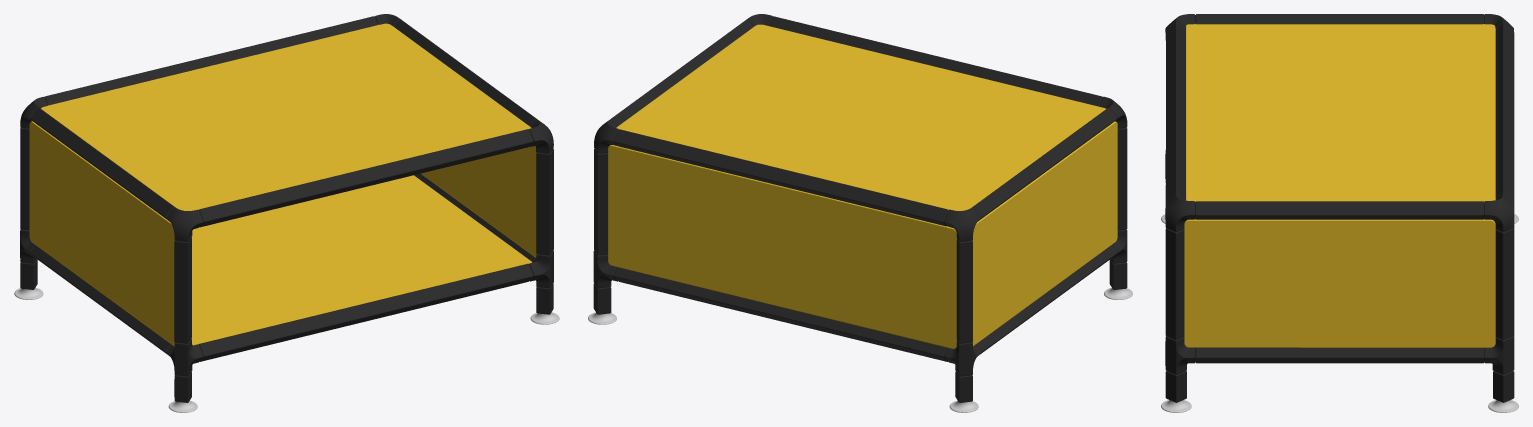
The picture shows the model from 3 angles, left to right: view 1: azimuth 30°, elevation 25°; view 2: azimuth 150°, elevation 25°; view 3: azimuth 270°, elevation 25°; orthographic projection. The views are drawn at different scales.
Parts seen in each view (by area): view 1: 523x374x154; view 2: 523x374x154; view 3: 523x374x154.
Boxes of the visible parts, <box> form: 523x374x154: <box>14,14,559,412</box>; 523x374x154: <box>588,14,1132,412</box>; 523x374x154: <box>1161,14,1518,412</box>.
Size of the model in its own units: 0.6129 by 0.2933 by 0.4632.
